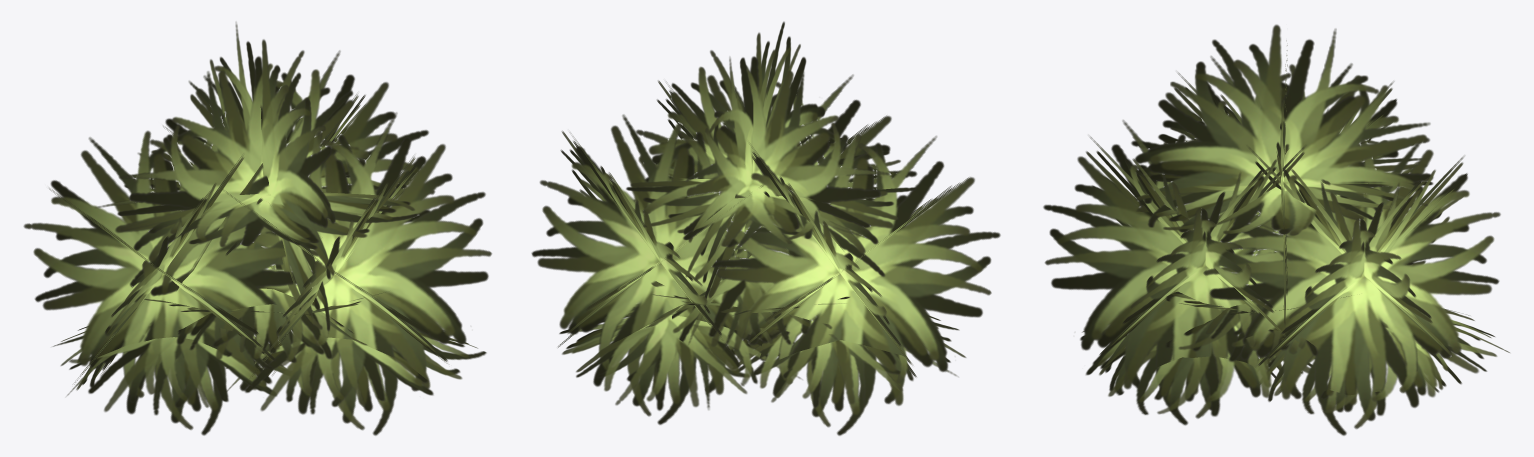
3 renders of one model, left to right at view 1: azimuth 30°, elevation 25°; view 2: azimuth 150°, elevation 25°; view 3: azimuth 270°, elevation 25°, orthographic. The views are drawn at different scales.
Parts seen in each view (by area): view 1: HP3_grass004; view 2: HP3_grass004; view 3: HP3_grass004.
Part boxes in pixels (x1=…): HP3_grass004: x1=23, y1=22, x2=491, y2=435; HP3_grass004: x1=531, y1=21, x2=1000, y2=435; HP3_grass004: x1=1043, y1=24, x2=1509, y2=435.
Size of the model in its own units: 0.6324 by 0.5481 by 0.651.
Materials: 4 (4 with a texture image).
